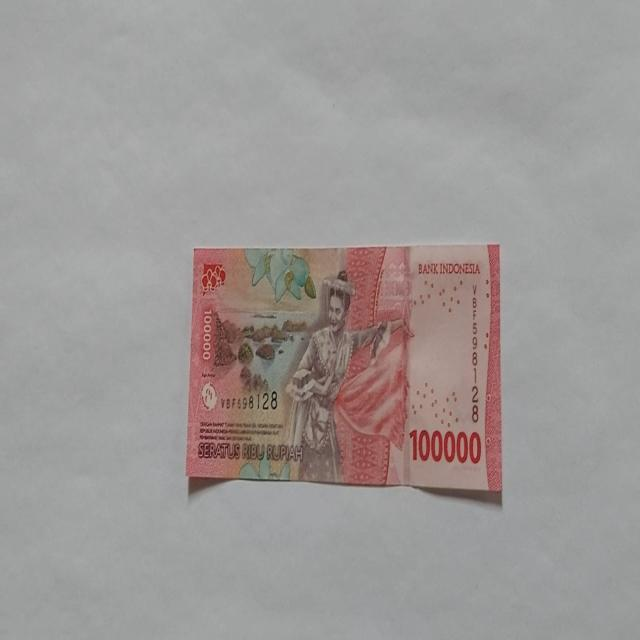seratus ribu rupiah: (185, 244, 502, 501), (282, 268, 408, 484)
